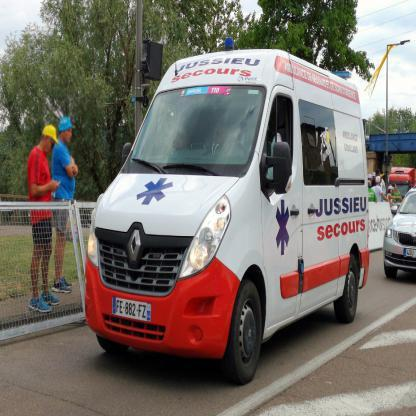ambulance_off: (82, 50, 369, 388)
